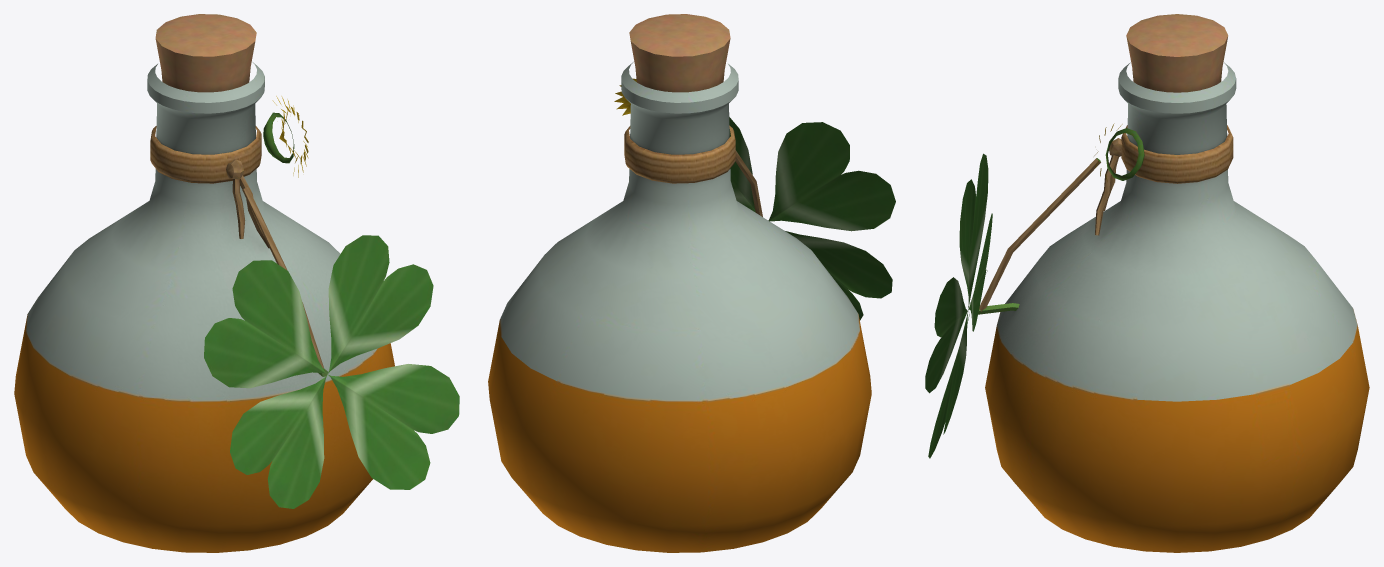
Rendered from pickup_health.glb.
3 views of the same model, side by side, from view 1: azimuth 30°, elevation 25°; view 2: azimuth 150°, elevation 25°; view 3: azimuth 270°, elevation 25° (orthographic).
Visible parts, largest first — view 1: pickup_health; view 2: pickup_health; view 3: pickup_health.
Part boxes in pixels (left/top/right/bottom): pickup_health: left=14, top=14, right=459, bottom=552; pickup_health: left=488, top=14, right=895, bottom=552; pickup_health: left=925, top=14, right=1369, bottom=552.
Size of the model in its own units: 0.196 by 0.27 by 0.2264.
1 material, 1 textured.
